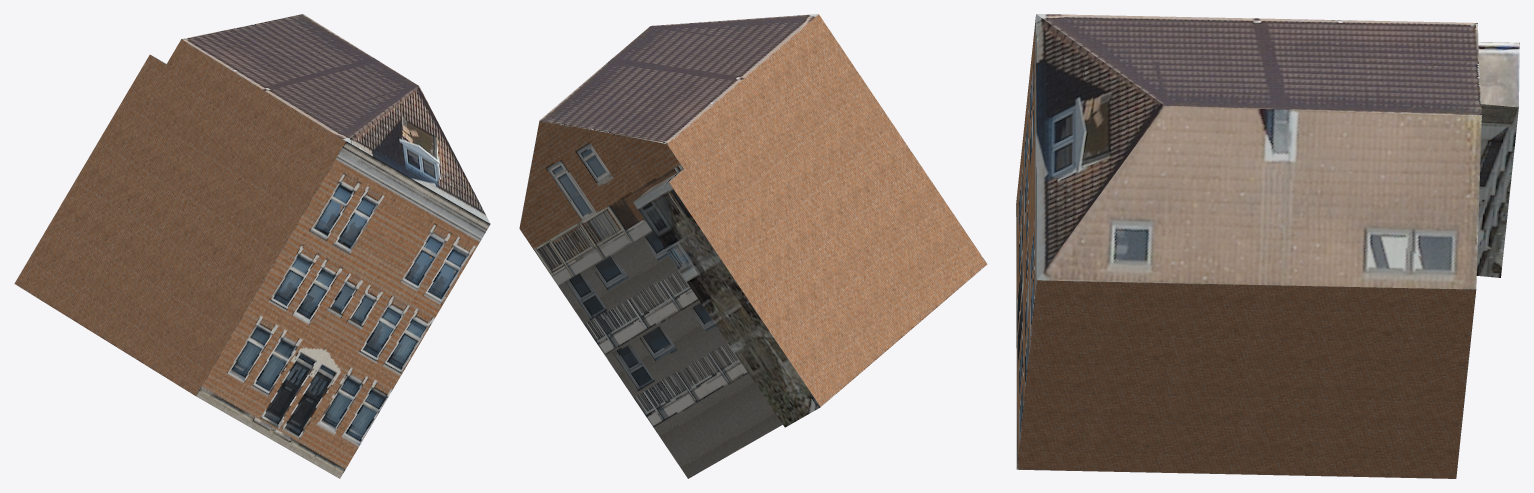
3 renders of one model, left to right at view 1: azimuth 30°, elevation 25°; view 2: azimuth 150°, elevation 25°; view 3: azimuth 270°, elevation 25°, orthographic. The views are drawn at different scales.
Visible parts, largest first — view 1: BAG_0599100000760393 (×3); view 2: BAG_0599100000760393 (×3); view 3: BAG_0599100000760393 (×4).
Part boxes in pixels (box(x1,y1,x2,y2)): BAG_0599100000760393 (×3): box(14, 14, 490, 478); BAG_0599100000760393 (×3): box(519, 14, 987, 478); BAG_0599100000760393 (×4): box(1016, 14, 1519, 478).
Size of the model in its own units: 13.58 by 14.17 by 13.48.
Materials: 1 (1 with a texture image).
